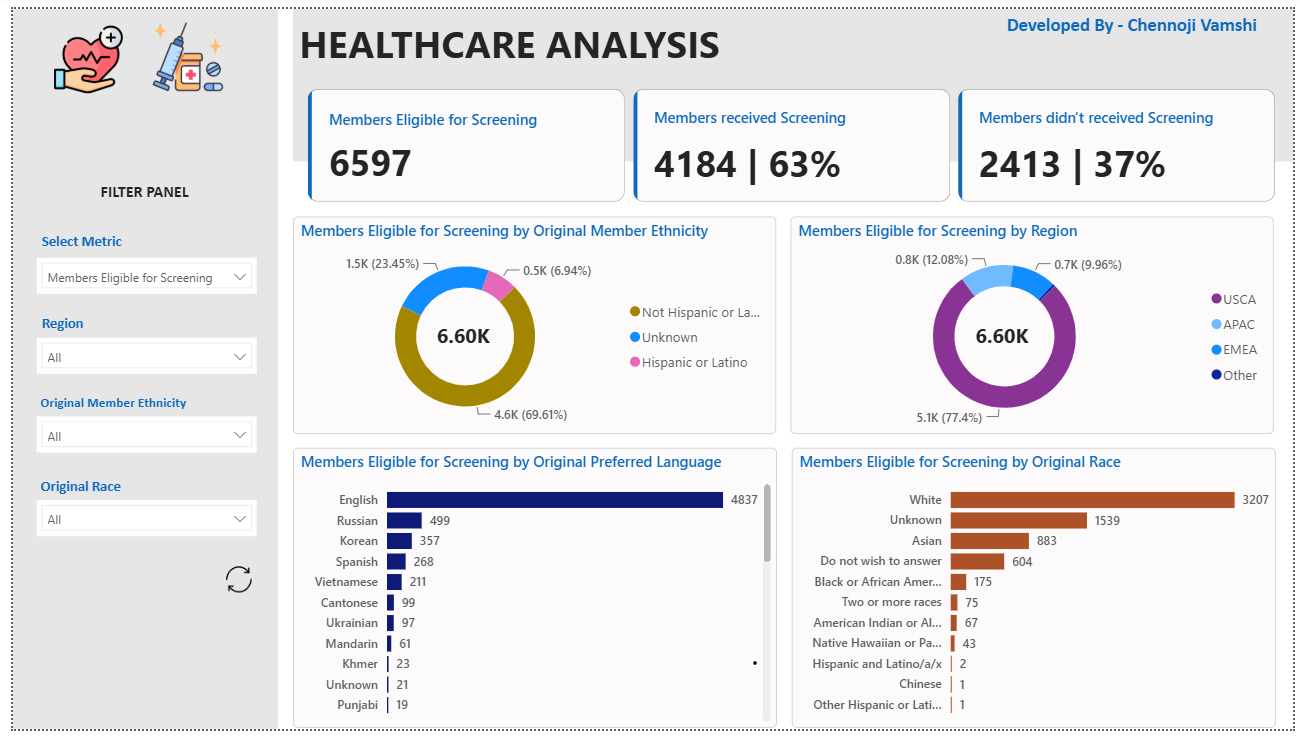

The dashboard page shown, as its layout file describes it:
{"tool":"powerbi","page":{"name":"HEALTHCARE ANALYSIS","canvas":[1280,720],"ordinal":0},"visuals":[{"type":"shape","box":[279.5,0,1000.7,152.5],"z":0},{"type":"cardVisual","fields":{"Data":["Data for healthcare analyst 2 a.Members Eligible for Screening","Data for healthcare analyst 2 a.Members received Screening","Data for healthcare analyst 2 a.Members didn't received Screening"]},"box":[290.3,75.5,979.3,123.3],"z":1000},{"type":"shape","box":[0,0,265.2,720.2],"z":2000},{"type":"textbox","box":[281.8,3.2,490.2,60.6],"z":3000},{"type":"textbox","box":[988.8,0,291.2,50],"z":4000},{"type":"donutChart","fields":{"Y":["Data for healthcare analyst 2 a.Members Eligible for Screening"],"Category":["Data for healthcare analyst 2 a.ORIG_MEM_ETHNICITY"]},"box":[279.5,206.9,483,217.8],"z":5000},{"type":"slicer","fields":{"Values":["Select Metric.Select Metric"]},"box":[23.4,248.8,220.1,36.2],"z":6000},{"type":"card","fields":{"Values":["Data for healthcare analyst 2 a.Members Eligible for Screening"]},"box":[405.4,309.8,90.8,36.3],"z":7000},{"type":"donutChart","fields":{"Y":["Data for healthcare analyst 2 a.Members Eligible for Screening"],"Category":["Data for healthcare analyst 2 a.Region"]},"box":[778.1,206.9,482.8,217.8],"z":8000},{"type":"card","fields":{"Values":["Data for healthcare analyst 2 a.Members Eligible for Screening"]},"box":[943.8,309.8,90.8,36.3],"z":9000},{"type":"clusteredBarChart","fields":{"Y":["Data for healthcare analyst 2 a.Members Eligible for Screening"],"Category":["Data for healthcare analyst 2 a.Original Preferred Language"]},"box":[279.5,439.3,484,280],"z":10000},{"type":"clusteredBarChart","fields":{"Y":["Data for healthcare analyst 2 a.Members Eligible for Screening"],"Category":["Data for healthcare analyst 2 a.Original Race"]},"box":[778.3,439.1,483.8,279.6],"z":11000},{"type":"image","box":[36.3,10.9,78.7,78.7],"z":12000},{"type":"image","box":[131.9,6.1,84.7,83.5],"z":13000},{"type":"textbox","box":[23.4,218,117,30.8],"z":14000},{"type":"slicer","fields":{"Values":["Data for healthcare analyst 2 a.Region"]},"box":[23.4,328.6,220.1,36.2],"z":15000},{"type":"textbox","box":[23.4,299.9,117,31.9],"z":16000},{"type":"textbox","box":[72.3,168,118,30.8],"z":17000},{"type":"slicer","fields":{"Values":["Data for healthcare analyst 2 a.Original Member Ethnicity"]},"box":[23.4,407.2,220.1,36.2],"z":18000},{"type":"slicer","fields":{"Values":["Data for healthcare analyst 2 a.Original Race"]},"box":[23.4,491.2,220.1,36.2],"z":19000},{"type":"textbox","box":[23,378.7,220.2,31.5],"z":20000},{"type":"textbox","box":[23,462.2,116.2,31.5],"z":21000},{"type":"image","box":[206.9,549.5,37.3,40.7],"z":22000}]}

Visuals, with their boxes in screenshot pixels (x1, y1, x2, y2), scaled from the page's 1280x720 canvas onto the 1300x738 screenshot:
shape: rect(284, 0, 1299, 156)
cardVisual - Data for healthcare analyst 2 a.Members Eligible for Screening x Data for healthcare analyst 2 a.Members received Screening: rect(295, 77, 1289, 204)
shape: rect(0, 0, 269, 737)
textbox: rect(286, 3, 784, 65)
textbox: rect(1004, 0, 1299, 51)
donutChart - Data for healthcare analyst 2 a.Members Eligible for Screening x Data for healthcare analyst 2 a.ORIG_MEM_ETHNICITY: rect(284, 212, 774, 435)
slicer - Select Metric.Select Metric: rect(24, 255, 247, 292)
card - Data for healthcare analyst 2 a.Members Eligible for Screening: rect(412, 318, 504, 355)
donutChart - Data for healthcare analyst 2 a.Members Eligible for Screening x Data for healthcare analyst 2 a.Region: rect(790, 212, 1281, 435)
card - Data for healthcare analyst 2 a.Members Eligible for Screening: rect(959, 318, 1051, 355)
clusteredBarChart - Data for healthcare analyst 2 a.Members Eligible for Screening x Data for healthcare analyst 2 a.Original Preferred Language: rect(284, 450, 775, 737)
clusteredBarChart - Data for healthcare analyst 2 a.Members Eligible for Screening x Data for healthcare analyst 2 a.Original Race: rect(790, 450, 1282, 737)
image: rect(37, 11, 117, 92)
image: rect(134, 6, 220, 92)
textbox: rect(24, 223, 143, 255)
slicer - Data for healthcare analyst 2 a.Region: rect(24, 337, 247, 374)
textbox: rect(24, 307, 143, 340)
textbox: rect(73, 172, 193, 204)
slicer - Data for healthcare analyst 2 a.Original Member Ethnicity: rect(24, 417, 247, 454)
slicer - Data for healthcare analyst 2 a.Original Race: rect(24, 503, 247, 541)
textbox: rect(23, 388, 247, 420)
textbox: rect(23, 474, 141, 506)
image: rect(210, 563, 248, 605)
